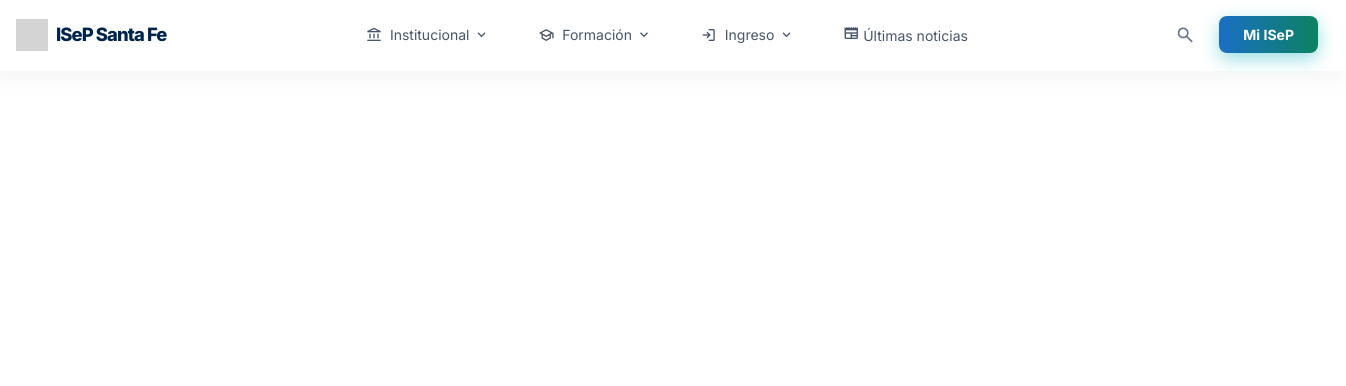
Scenario: Navbar › abre el dropdown Institucional en desktop y muestra sus ítems
What coordinates should you click on to do the following:
click the button "Institucional"
I would click on:
 (430, 35)
Its box is [352,18,508,52].
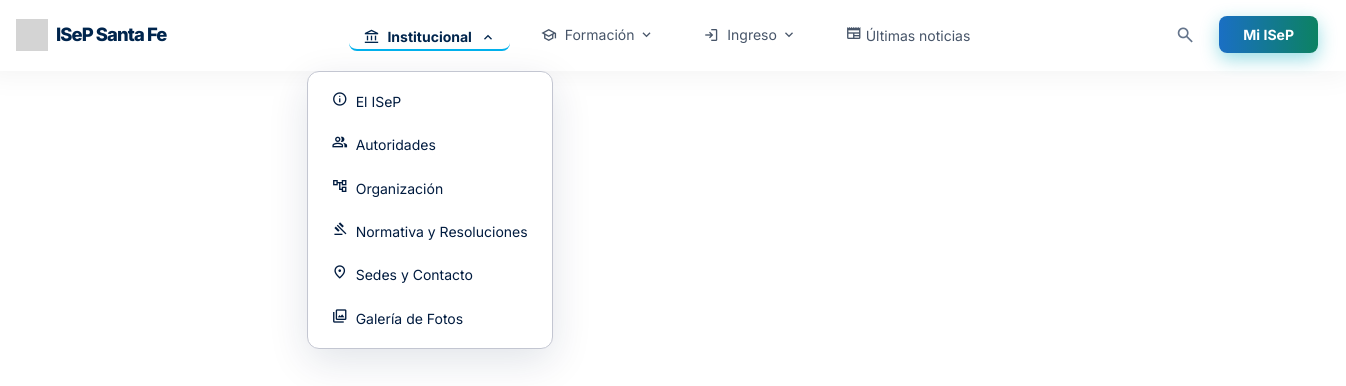
Check: the link "Autoridades" is shown, box [332,132,436,153]
Check: the link "Sedes y Contacto" is shown, box [332,262,473,283]
